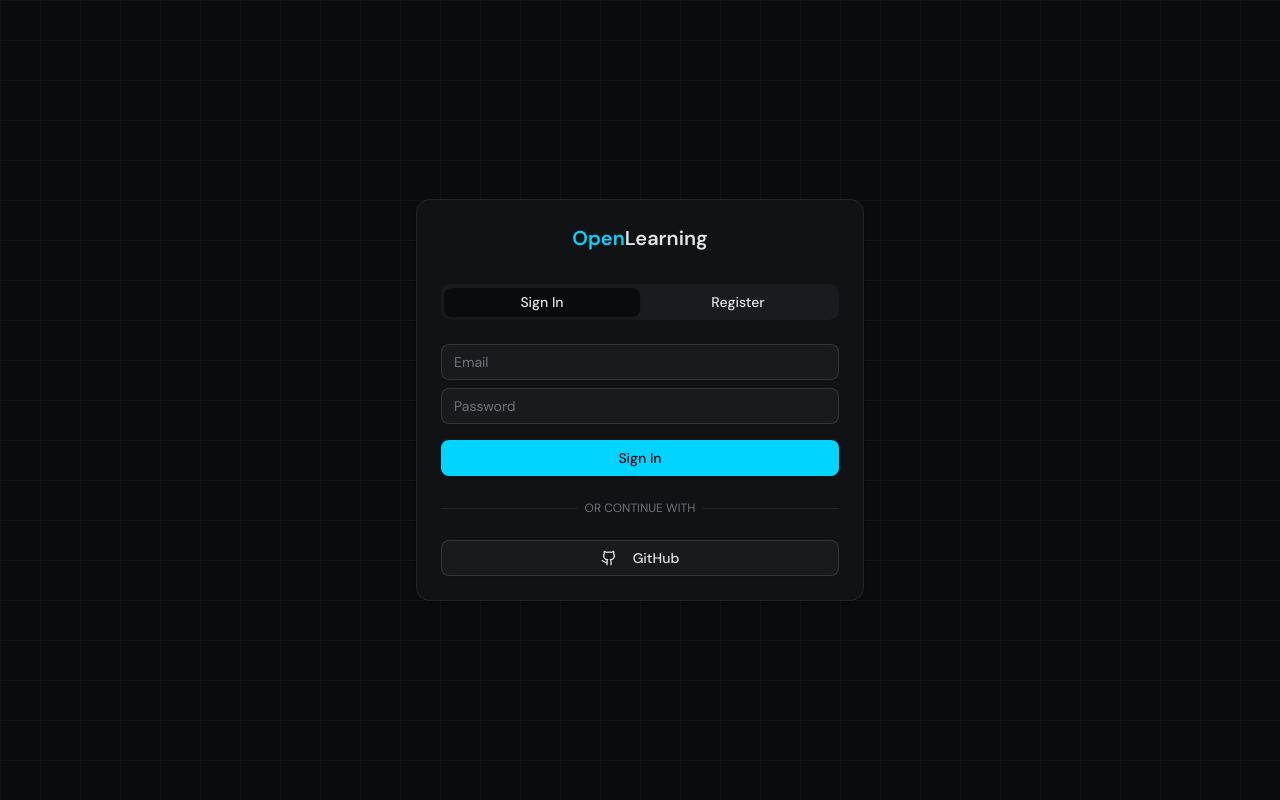
Test: LoginPage › renders register tab
Click the tab "Register" at x=738, y=302, box x1=640 y1=288 x2=836 y2=316
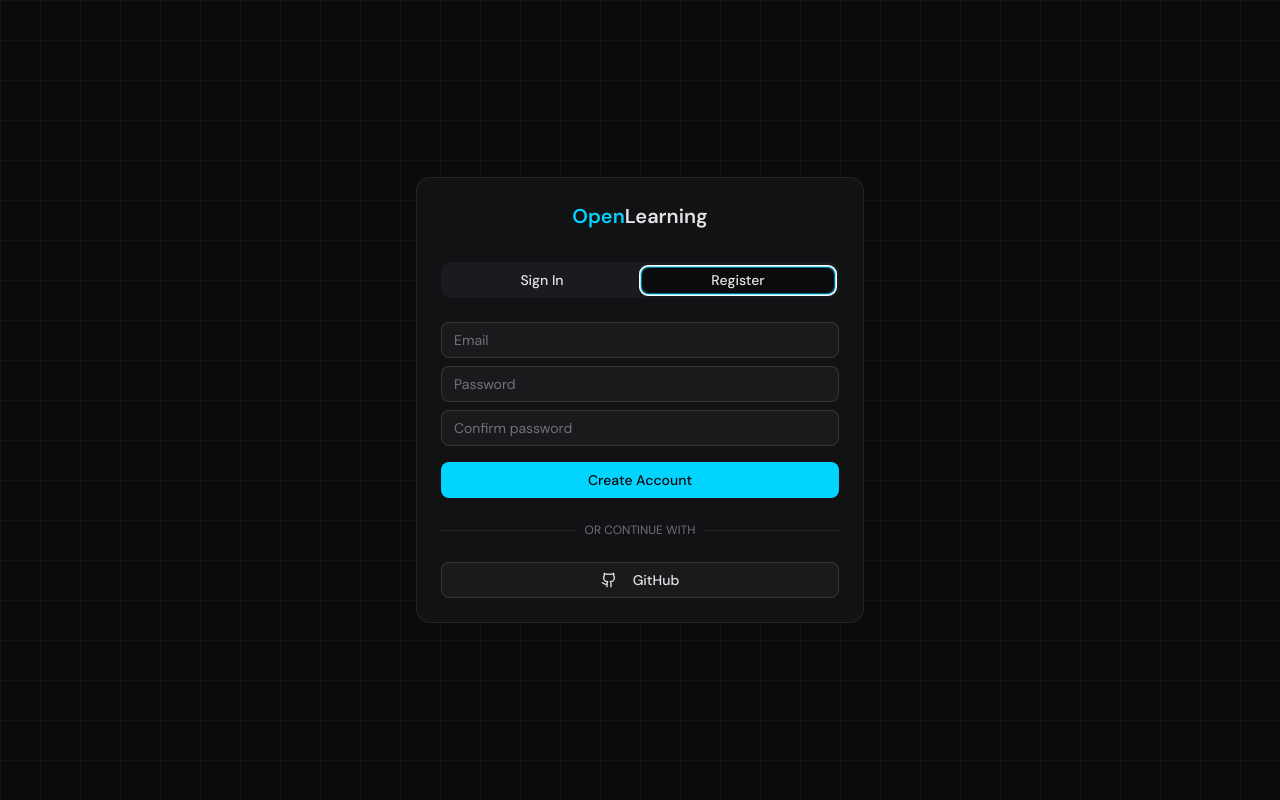
Expected: the password field with placeholder "Confirm password" is shown, x1=441 y1=410 x2=839 y2=446
Expected: the button "Create Account" is shown, x1=441 y1=462 x2=839 y2=498
